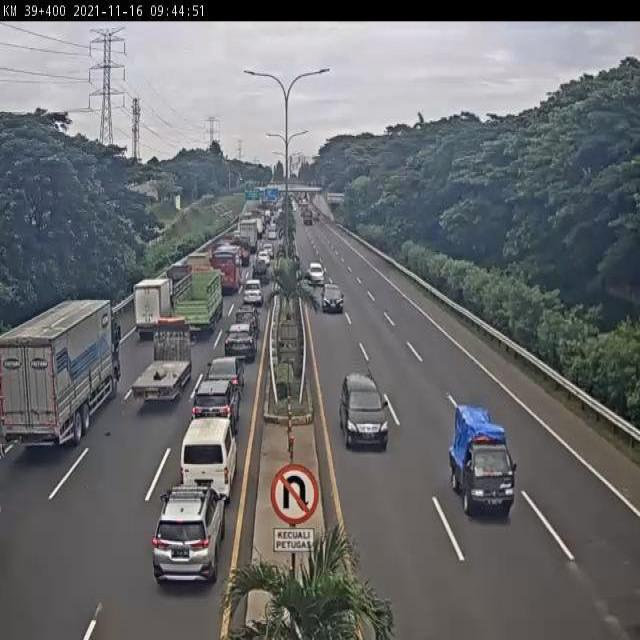big bus: (207, 247, 244, 296)
car: (447, 401, 515, 516), (150, 490, 222, 586), (339, 371, 391, 453), (188, 382, 236, 447), (205, 355, 246, 396), (223, 327, 255, 365), (321, 280, 343, 316), (232, 308, 259, 335), (236, 288, 261, 316)
small bus: (183, 419, 238, 500)
small truck: (182, 253, 211, 296)
truck-l-: (0, 300, 119, 449), (171, 265, 226, 339)
truck-m-: (133, 328, 196, 403), (134, 276, 173, 339)
